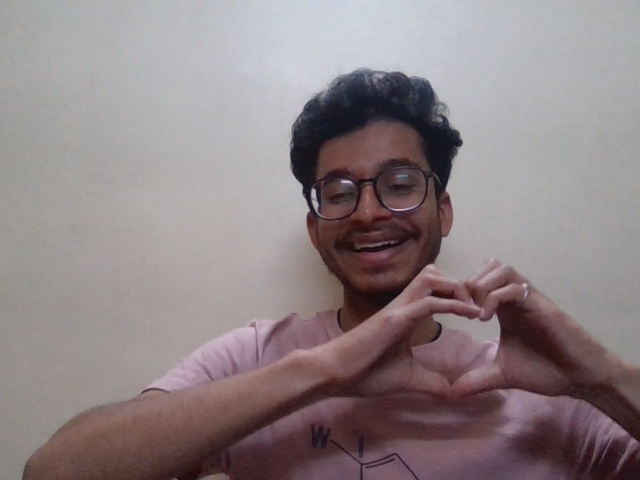silent-voice: (364, 255, 586, 423)
